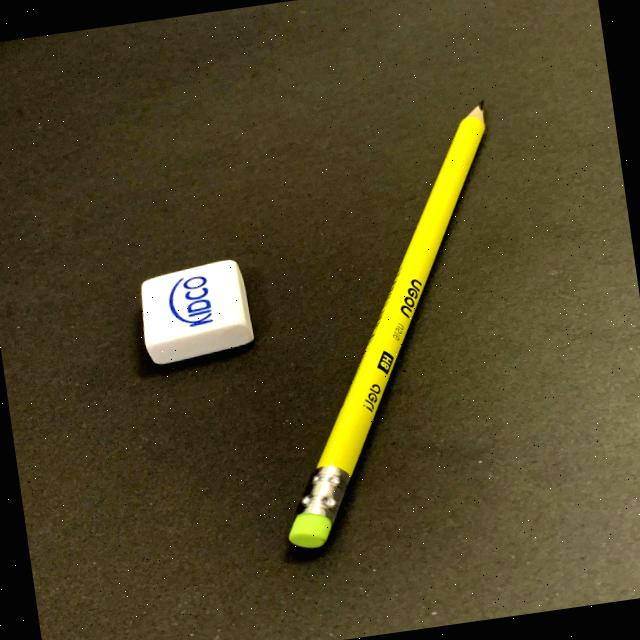Eraser: (95, 234, 286, 394)
Pencil: (233, 91, 537, 575)
